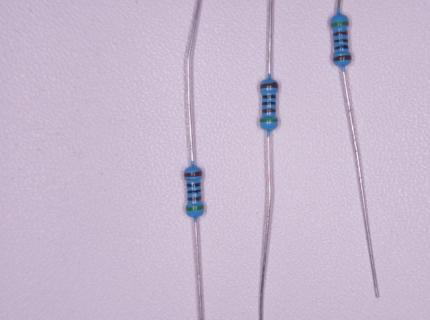Black band: (187, 183, 201, 188), (334, 45, 348, 50), (334, 39, 348, 43), (188, 190, 201, 194), (263, 95, 276, 99), (262, 102, 276, 105)
Brown band: (184, 171, 202, 177), (333, 55, 351, 61), (261, 83, 278, 89), (188, 196, 202, 201), (262, 108, 276, 113), (333, 31, 347, 36)
Green band: (186, 205, 204, 211), (260, 119, 278, 123), (331, 22, 348, 26)
